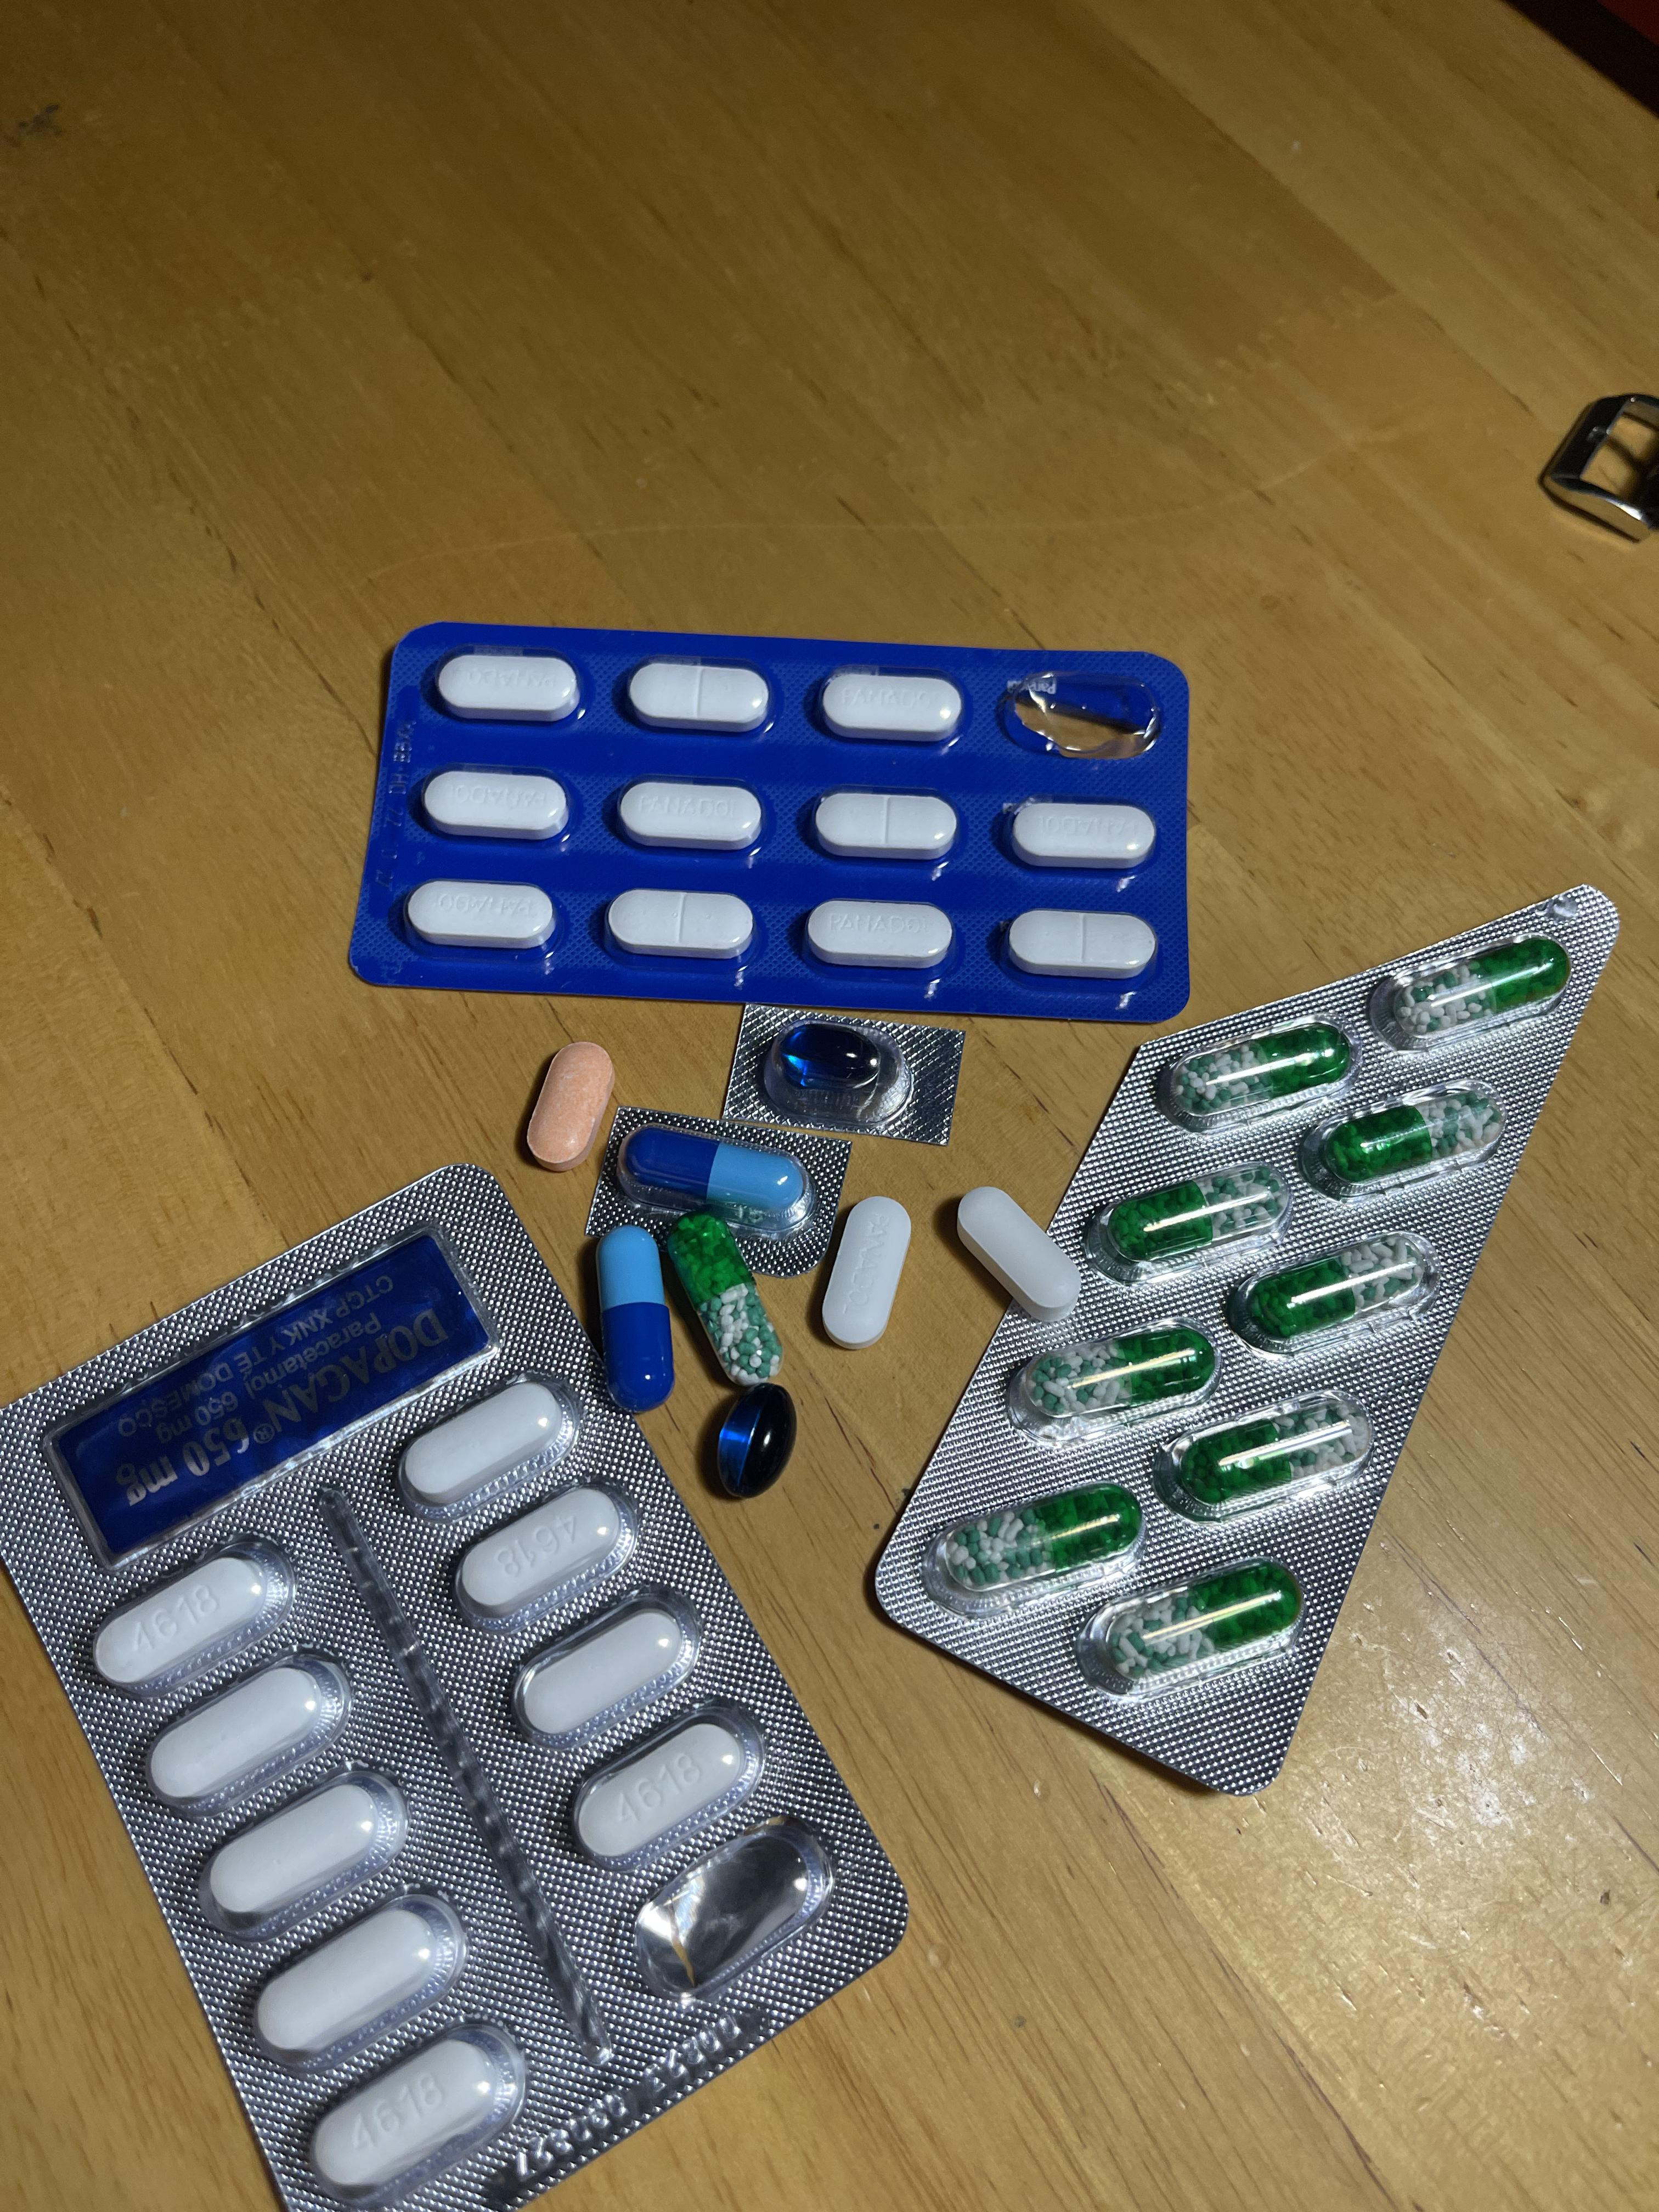Lincomyxin_500mg: (714, 1381, 798, 1494), (779, 1022, 884, 1087)
Loratadine_10mg: (525, 1045, 617, 1169)
Paracetamol_350mg: (816, 1193, 906, 1350), (819, 667, 967, 742), (626, 658, 772, 732), (1006, 798, 1155, 869), (406, 878, 554, 949), (422, 768, 568, 840), (608, 888, 755, 960), (617, 779, 763, 850), (812, 789, 962, 859), (1007, 907, 1157, 975), (436, 651, 579, 721), (805, 899, 953, 965)
Paracetamol_500mg: (246, 1881, 467, 2069), (195, 1768, 410, 1940), (139, 1651, 352, 1815), (312, 2038, 502, 2191), (451, 1486, 631, 1625), (580, 1723, 748, 1864), (518, 1602, 688, 1737), (98, 1555, 270, 1686), (403, 1381, 558, 1501), (957, 1186, 1079, 1327)
Paracetamol_650mg: (1091, 1555, 1297, 1695), (1230, 1230, 1443, 1355), (1169, 1390, 1380, 1514), (938, 1479, 1143, 1602), (1302, 1078, 1507, 1197), (1009, 1329, 1204, 1449), (1368, 937, 1568, 1050), (1155, 1010, 1342, 1127), (1096, 1169, 1284, 1284), (666, 1216, 786, 1385)
pill: (615, 1127, 817, 1240), (598, 1230, 673, 1407)
